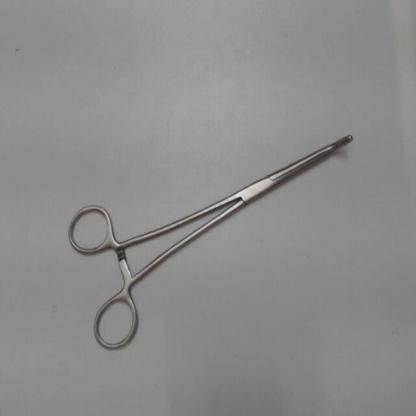Lahey Forceps: (61, 124, 360, 357)
